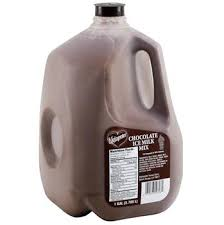milk: (43, 7, 184, 221)
